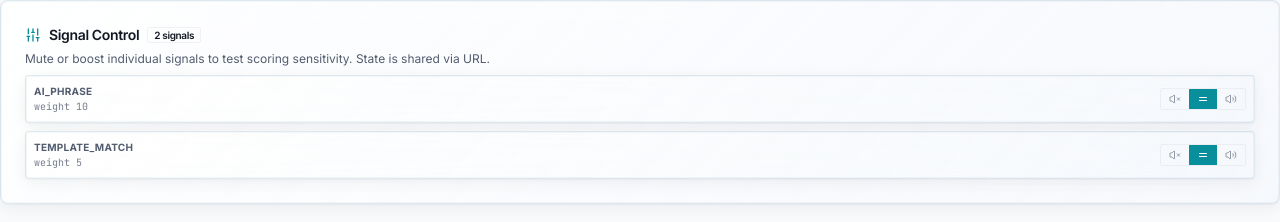
SignalMuteBoostPanel what-if tooltips › shows projected score when hovering a non-active boost button
Hover over the button with test id "signal-mute-boost-template_match-boost" at (1231, 155), box [1217, 145, 1245, 165]
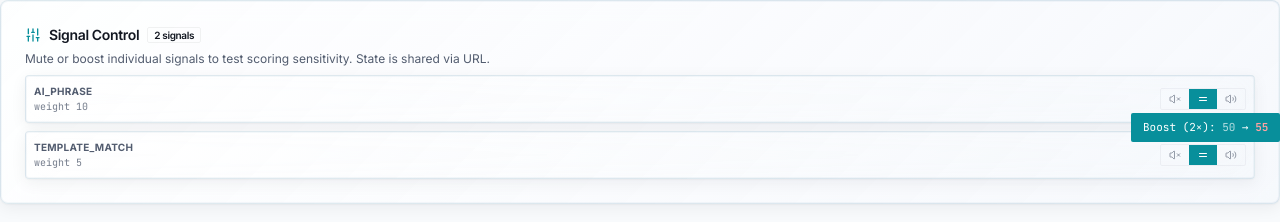
Check: the tooltip with test id "signal-whatif-tooltip-template_match-boost" is shown, box [1131, 113, 1279, 142]
Check: the tooltip with test id "signal-whatif-tooltip-template_match-boost" shows "55", box [1255, 120, 1268, 134]
